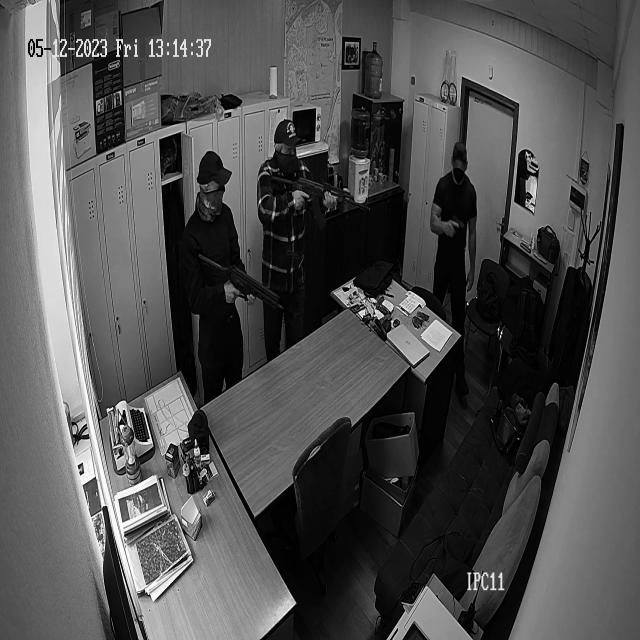gun: (198, 245, 285, 318), (270, 169, 370, 223), (448, 216, 466, 233)
person with a gun: (180, 155, 247, 388), (262, 116, 309, 348), (431, 142, 473, 386)
